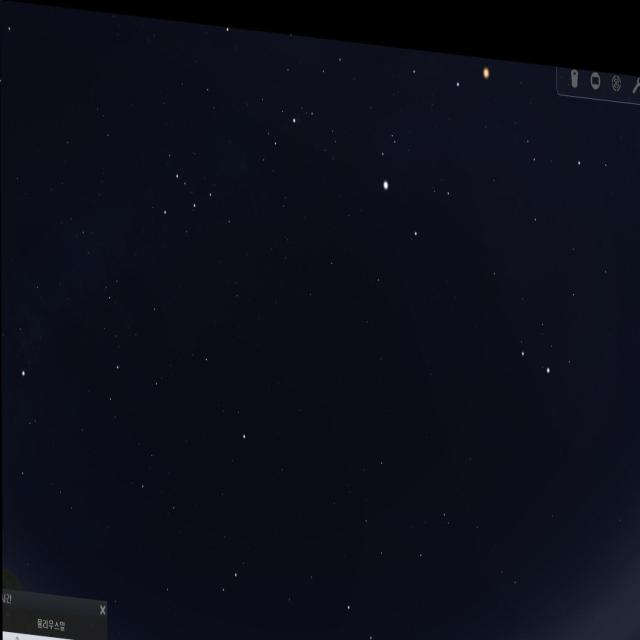cassiopeia: (168, 154, 228, 242)
